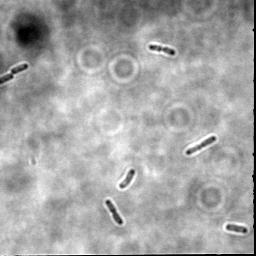Dividing: (184, 134, 217, 157), (1, 62, 29, 84), (104, 197, 124, 226), (147, 43, 176, 57)
Rod: (117, 168, 136, 190), (223, 223, 248, 235)
